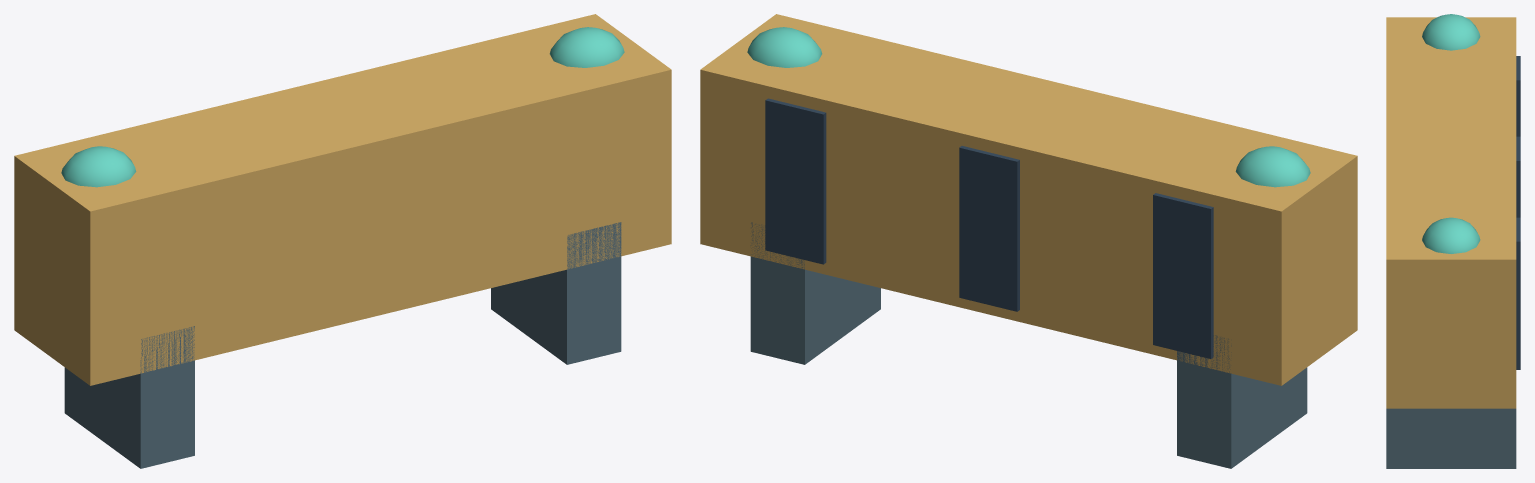
File: barrier.glb
3 renders of one model, left to right at view 1: azimuth 30°, elevation 25°; view 2: azimuth 150°, elevation 25°; view 3: azimuth 270°, elevation 25°, orthographic. The views are drawn at different scales.
Parts seen in each view (by area): view 1: barrier; view 2: barrier; view 3: barrier.
Part boxes in pixels (box(x1,y1,x2,y2)): barrier: box(14, 14, 671, 468); barrier: box(700, 14, 1357, 468); barrier: box(1386, 14, 1520, 468).
Size of the model in its own units: 1.5 by 0.72 by 0.352.
